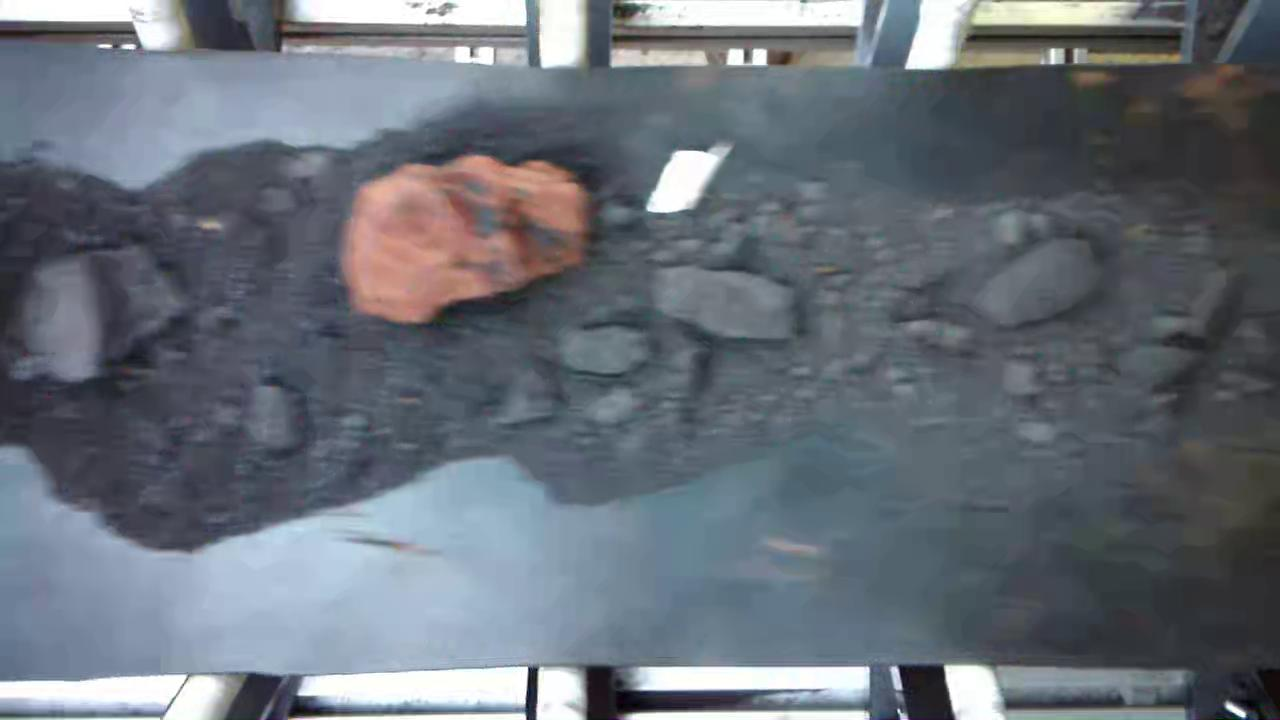conveyor: (6, 73, 1280, 653)
